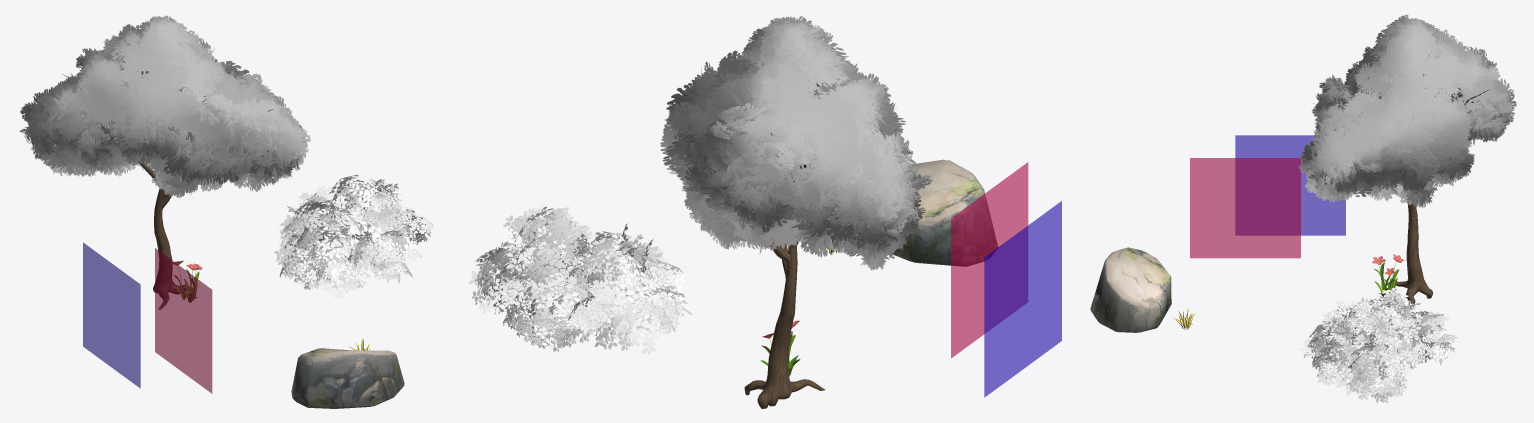
Rendered from small_scene.glb.
3 renders of one model, left to right at view 1: azimuth 30°, elevation 25°; view 2: azimuth 150°, elevation 25°; view 3: azimuth 270°, elevation 25°, orthographic. The views are drawn at different scales.
Visible parts, largest first — view 1: Tree_01_LOD0.002, Bush_01_LOD0.002, Plane.001, Plane, Rock_02.001, Flower_3_Group.001; view 2: Tree_01_LOD0.002, Bush_01_LOD0.002, Plane.001, Plane, Rock_02.001; view 3: Tree_01_LOD0.002, Plane, Bush_01_LOD0.002, Plane.001, Rock_02.001, Flower_3_Group.001.
Part boxes in pixels (<box>): Tree_01_LOD0.002: <box>19,15,310,309</box>; Bush_01_LOD0.002: <box>274,174,433,298</box>; Plane.001: <box>83,242,140,388</box>; Plane: <box>155,248,212,393</box>; Rock_02.001: <box>291,348,404,408</box>; Flower_3_Group.001: <box>171,260,202,302</box>; Tree_01_LOD0.002: <box>660,16,932,408</box>; Bush_01_LOD0.002: <box>468,204,692,354</box>; Plane.001: <box>984,201,1061,397</box>; Plane: <box>951,162,1028,358</box>; Rock_02.001: <box>891,159,997,266</box>; Tree_01_LOD0.002: <box>1298,14,1516,308</box>; Plane: <box>1190,158,1300,258</box>; Bush_01_LOD0.002: <box>1300,287,1458,402</box>; Plane.001: <box>1235,135,1345,235</box>; Rock_02.001: <box>1090,247,1171,332</box>; Flower_3_Group.001: <box>1372,254,1404,296</box>.
Size of what is drawn, in the model's own units: 7.52 by 5.62 by 7.74.
Materials: 9 (7 with a texture image).
